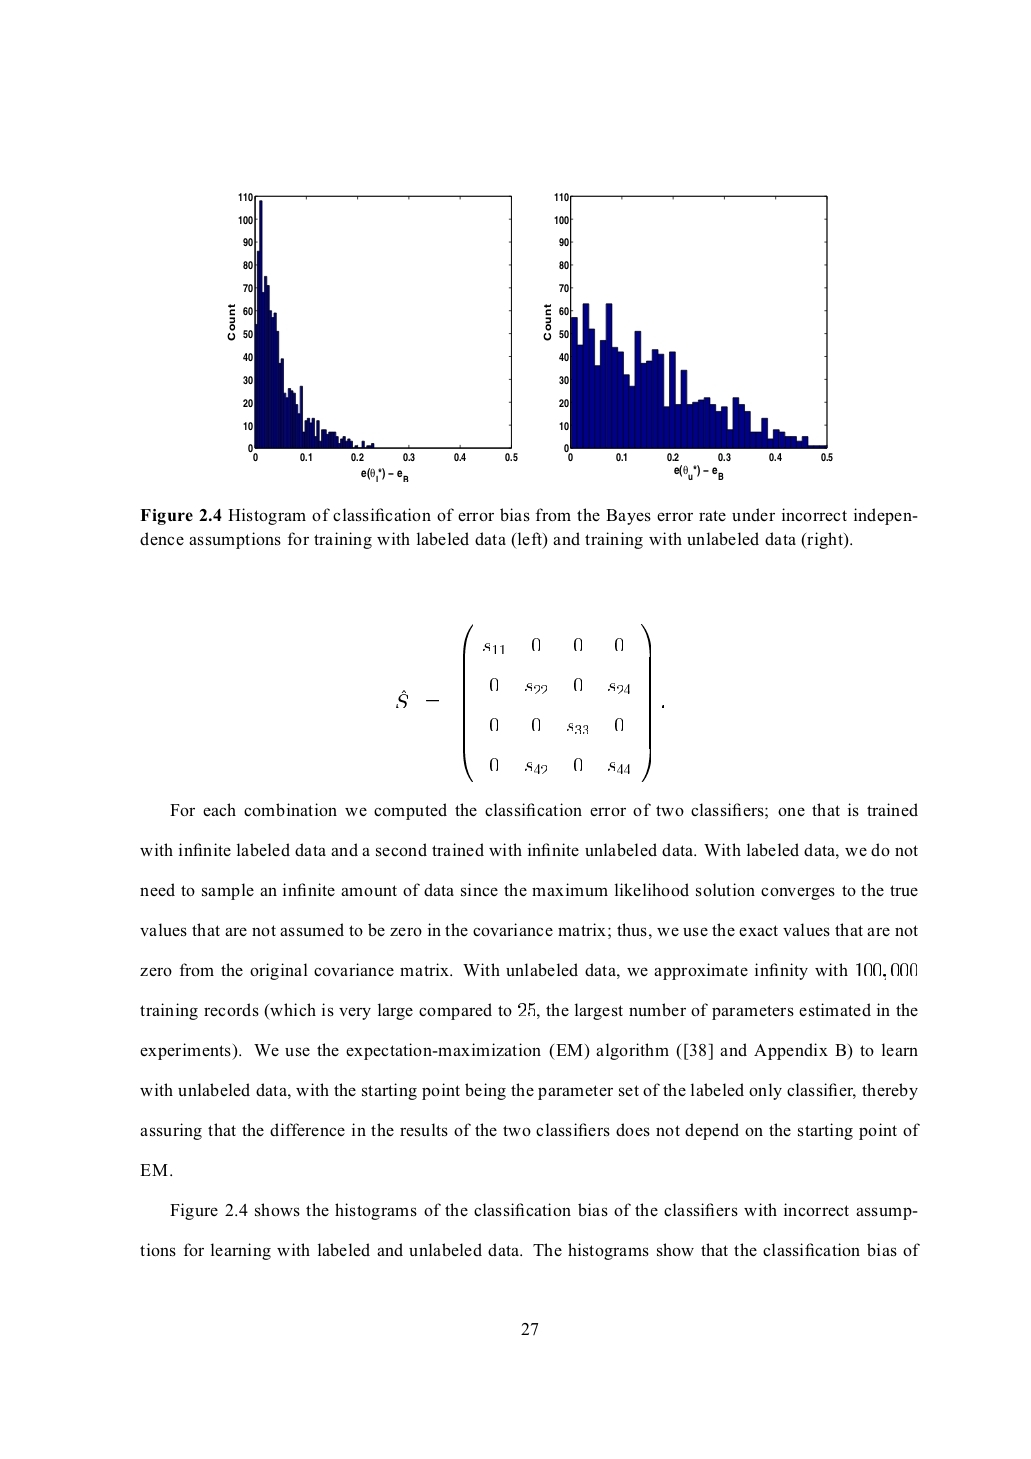figure: (227, 193, 517, 481), (543, 193, 832, 479)
formula: (396, 624, 663, 782)
